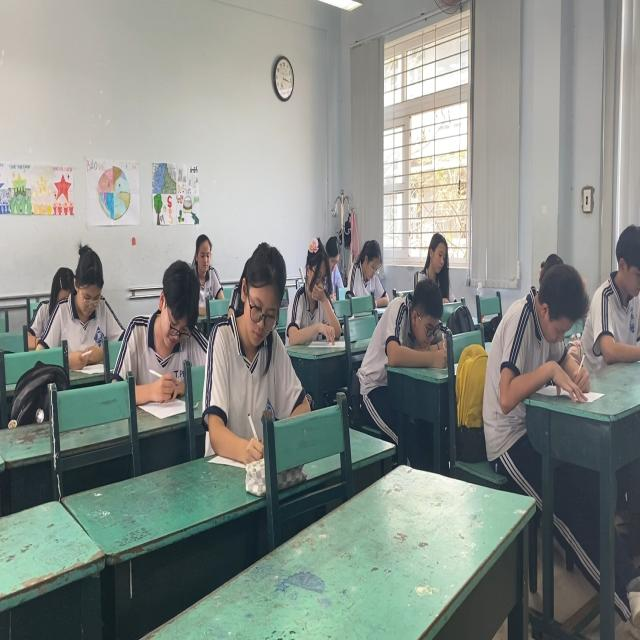not_cheating: (216, 232, 294, 440), (492, 254, 591, 405), (134, 260, 202, 381), (43, 236, 112, 354), (377, 274, 441, 370), (284, 233, 338, 343), (350, 236, 392, 298), (188, 226, 221, 301), (420, 226, 453, 298)
